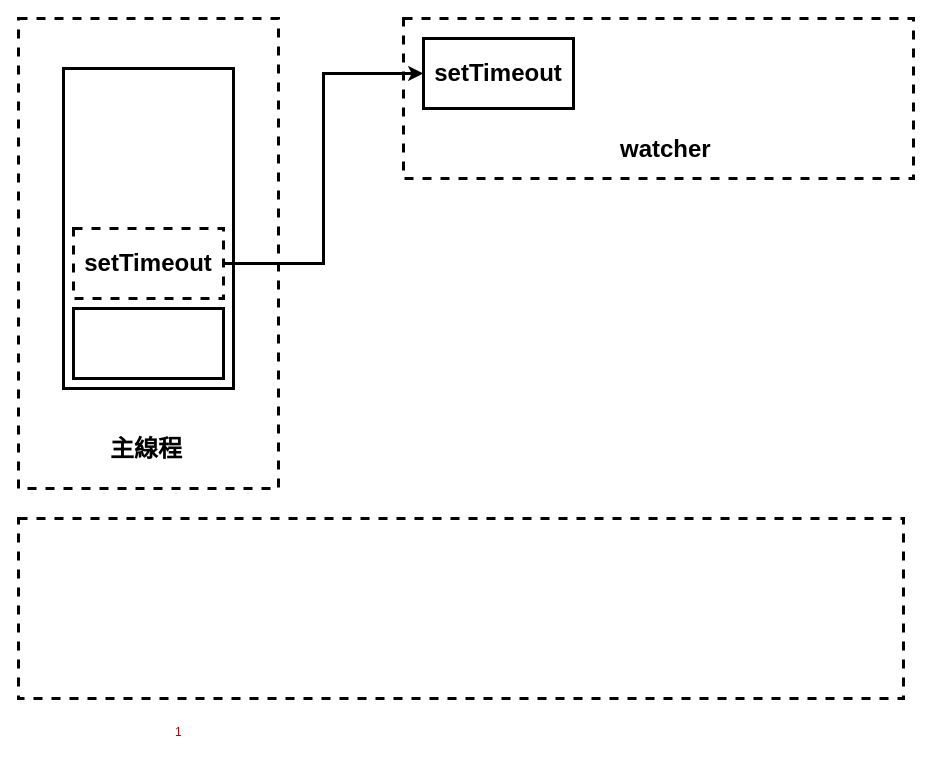
Image size: 932x757. Some labels were removed from this diagram. Here are the shapes that lost their labels. From the top down, the centre of each, then its label:
the point at 148,343: Main
the point at 460,608: Job Queue
